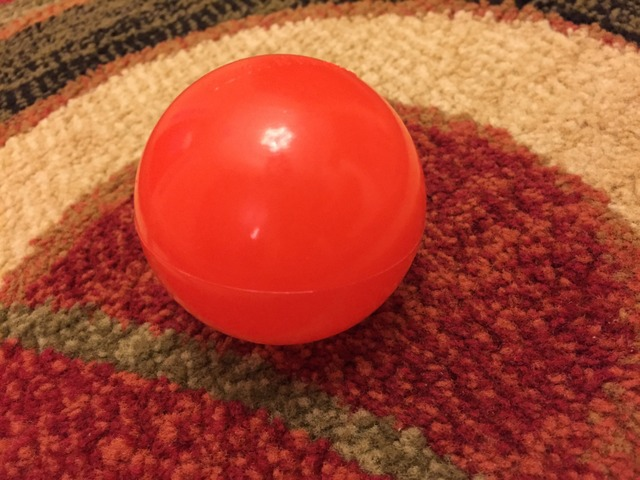Ball: (123, 58, 428, 339)
